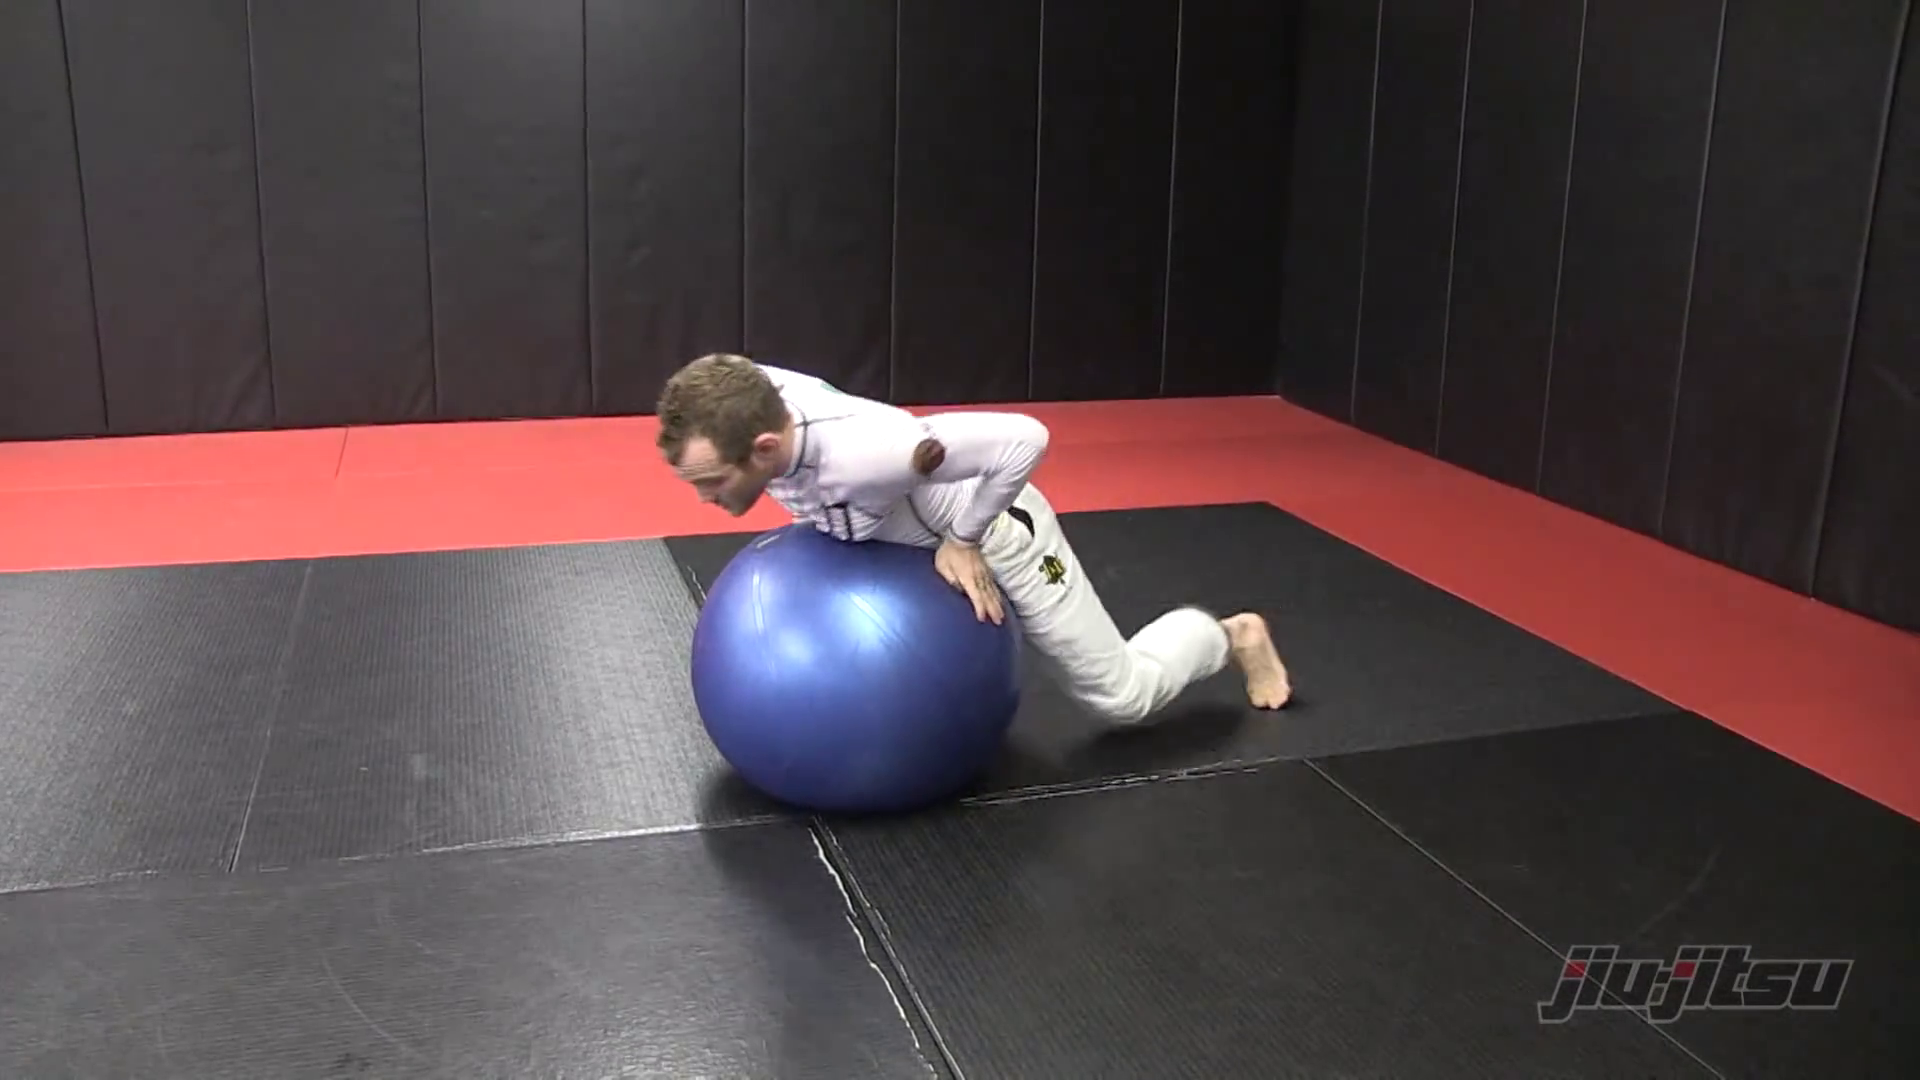yogaball: (680, 520, 1030, 824)
